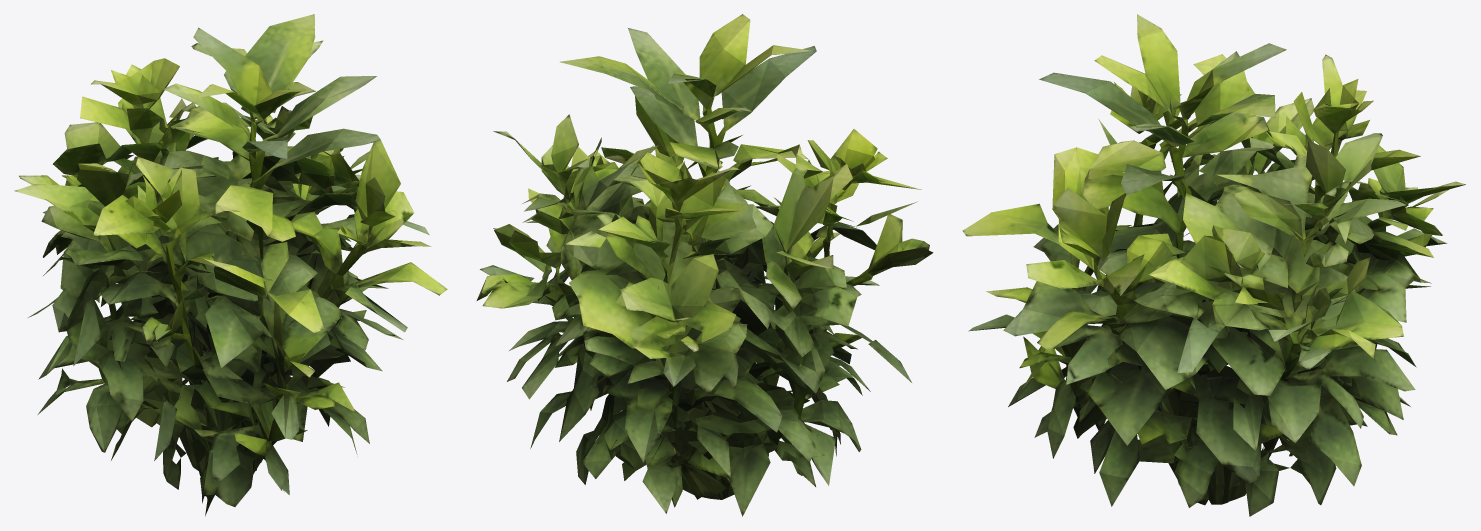
Rendered from leafy_herb_optimized.glb.
3 renders of one model, left to right at view 1: azimuth 30°, elevation 25°; view 2: azimuth 150°, elevation 25°; view 3: azimuth 270°, elevation 25°, orthographic. The views are drawn at different scales.
Bounding box in the file's own units: 0.761 × 0.8515 × 0.8627.
Materials: 1 (1 with a texture image).
